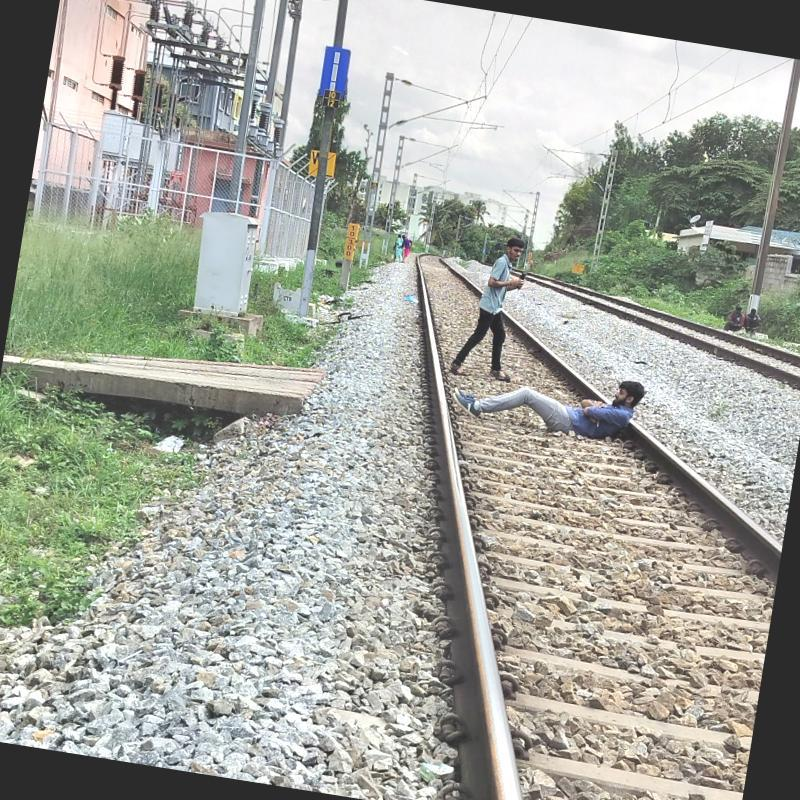sleeping: (435, 344, 659, 456)
